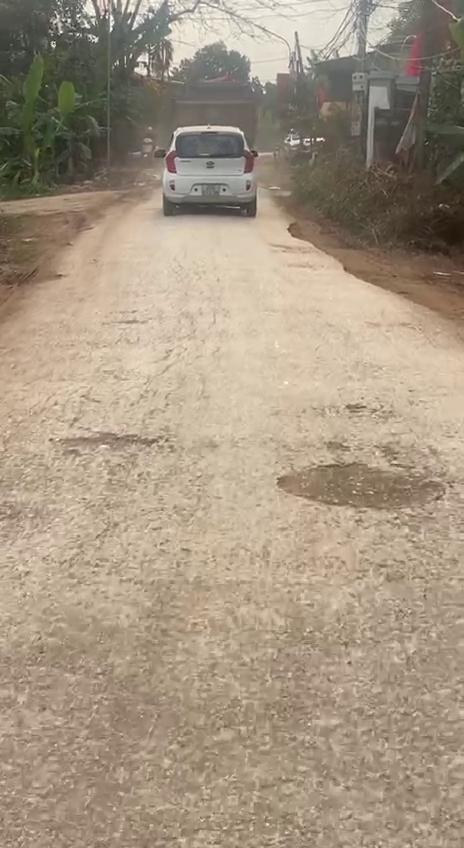pothole: (275, 460, 452, 518), (58, 427, 159, 458)
